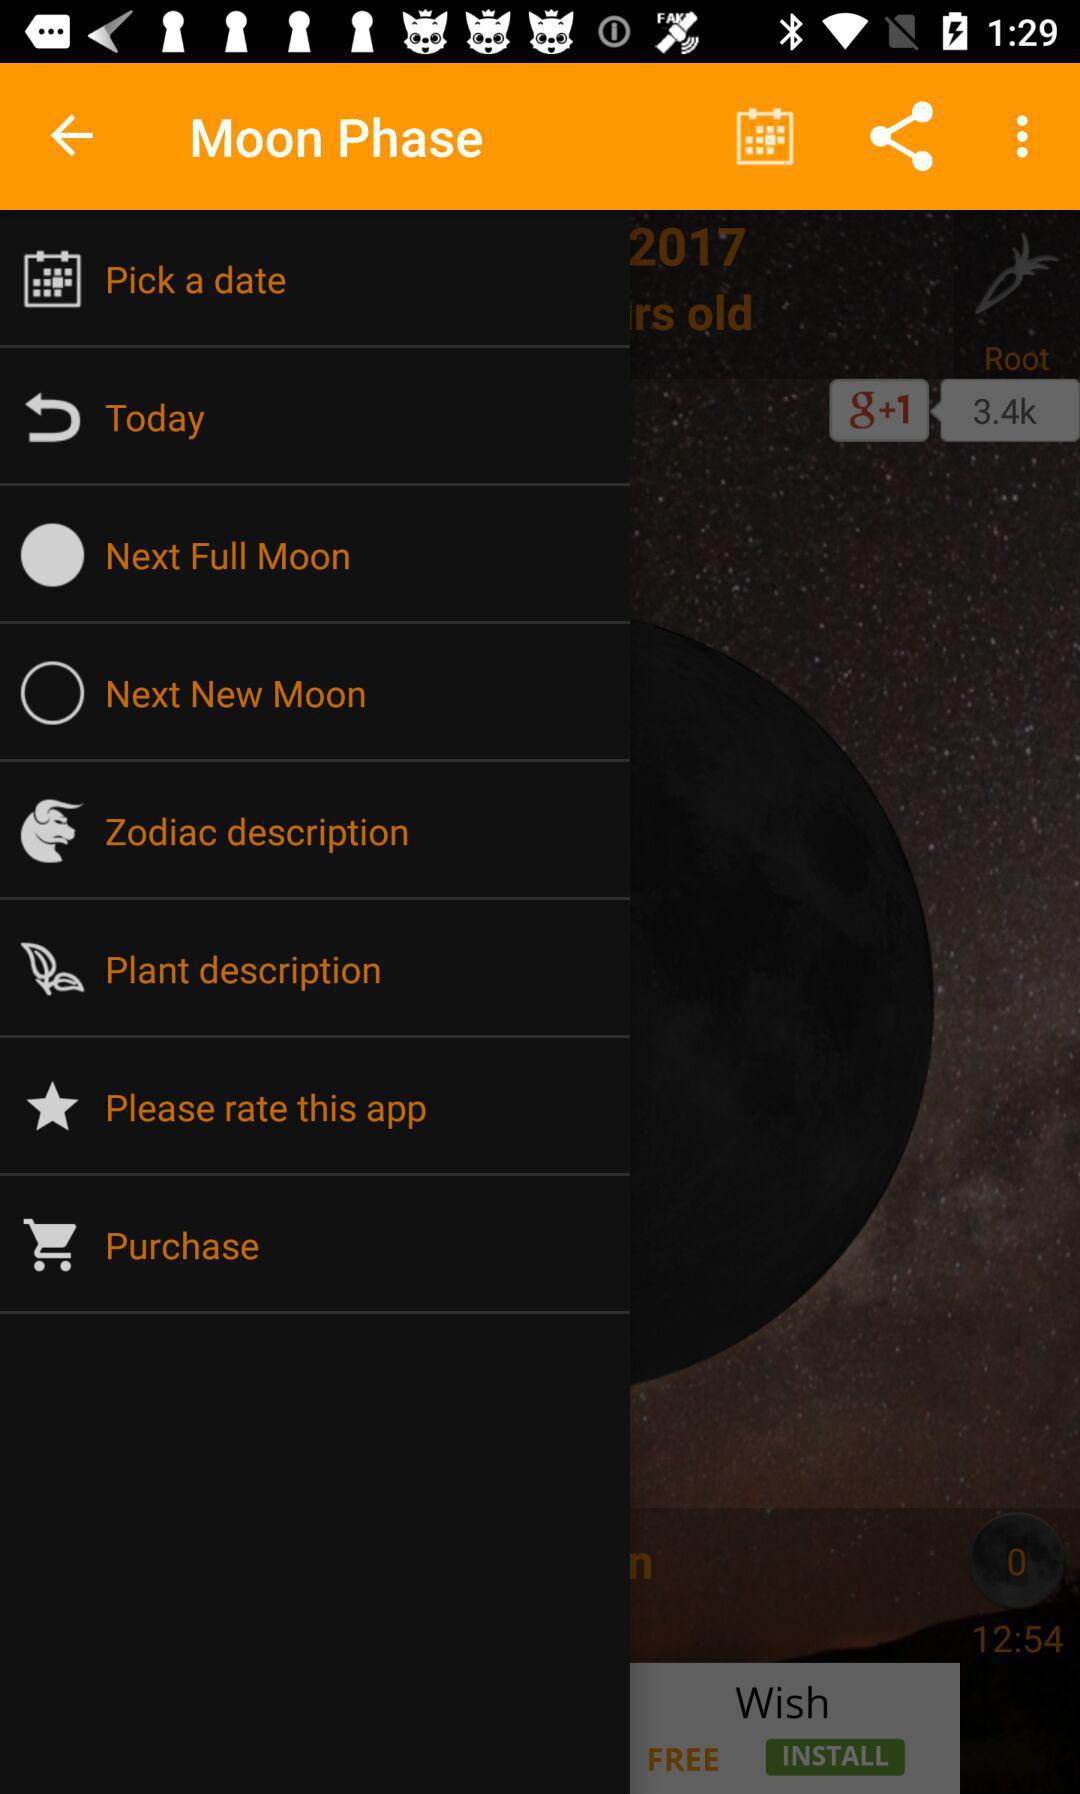Drawer: (1, 210, 632, 1794)
Icon: (869, 100, 935, 174), (23, 249, 83, 310), (735, 108, 796, 167), (22, 1219, 78, 1272), (26, 392, 83, 445), (26, 1080, 79, 1134), (50, 114, 96, 159), (1015, 115, 1030, 160)
Image: (20, 660, 86, 727), (20, 523, 86, 589), (20, 798, 85, 865), (19, 942, 87, 997)
Text: (192, 115, 484, 161), (108, 1090, 428, 1132), (104, 815, 410, 856), (108, 952, 383, 993), (106, 678, 366, 711), (106, 539, 351, 572), (108, 264, 288, 297), (108, 1229, 261, 1263), (106, 402, 206, 441)
Toolbar: (1, 64, 1080, 210)
UpperTaskBar: (1, 1, 1080, 64)
